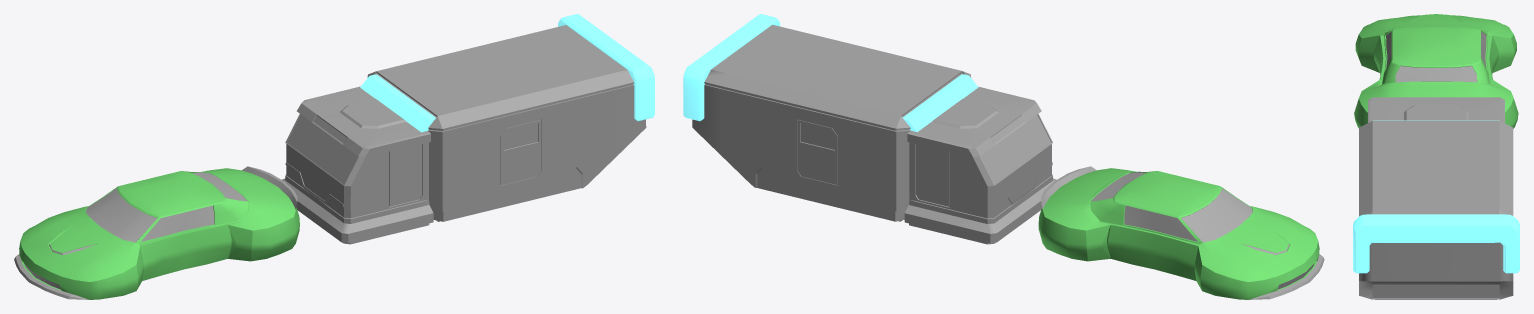
Rendered from Killian_vehicules.fbx.
3 renders of one model, left to right at view 1: azimuth 30°, elevation 25°; view 2: azimuth 150°, elevation 25°; view 3: azimuth 270°, elevation 25°, orthographic. The views are drawn at different scales.
Visible parts, largest first — view 1: Ambulance, Voiture; view 2: Ambulance, Voiture; view 3: Ambulance, Voiture.
Part boxes in pixels (x1=…): Ambulance: x1=282, y1=14, x2=654, y2=244; Voiture: x1=14, y1=166, x2=299, y2=299; Ambulance: x1=683, y1=14, x2=1056, y2=244; Voiture: x1=1038, y1=166, x2=1324, y2=299; Ambulance: x1=1353, y1=97, x2=1519, y2=299; Voiture: x1=1354, y1=14, x2=1518, y2=128.
Size of the model in its own units: 6.92 by 1.24 by 1.64.
